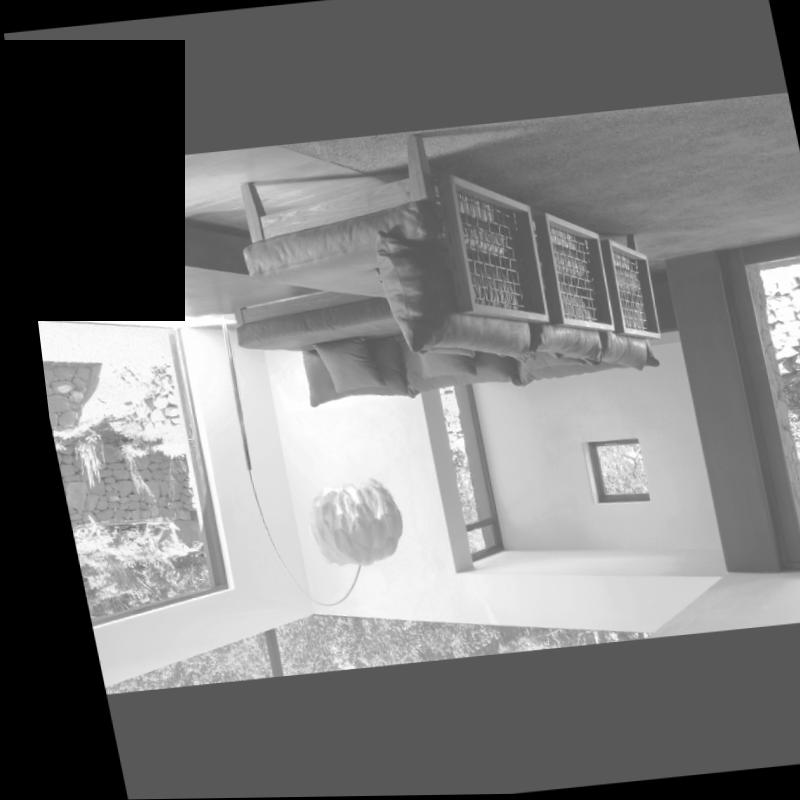pillow: (372, 217, 528, 377), (369, 263, 475, 369), (384, 327, 514, 400), (506, 341, 653, 395), (291, 342, 404, 409), (527, 318, 598, 370), (305, 341, 372, 393), (592, 329, 647, 376), (406, 347, 466, 386), (508, 347, 576, 374)
